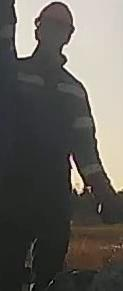gloves: (89, 170, 123, 227)
helmet: (33, 1, 77, 38)
vest: (15, 62, 95, 214)
